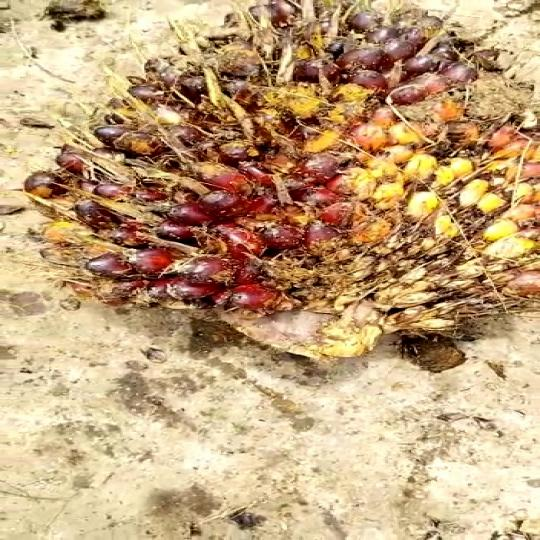masak: (35, 0, 540, 363)
